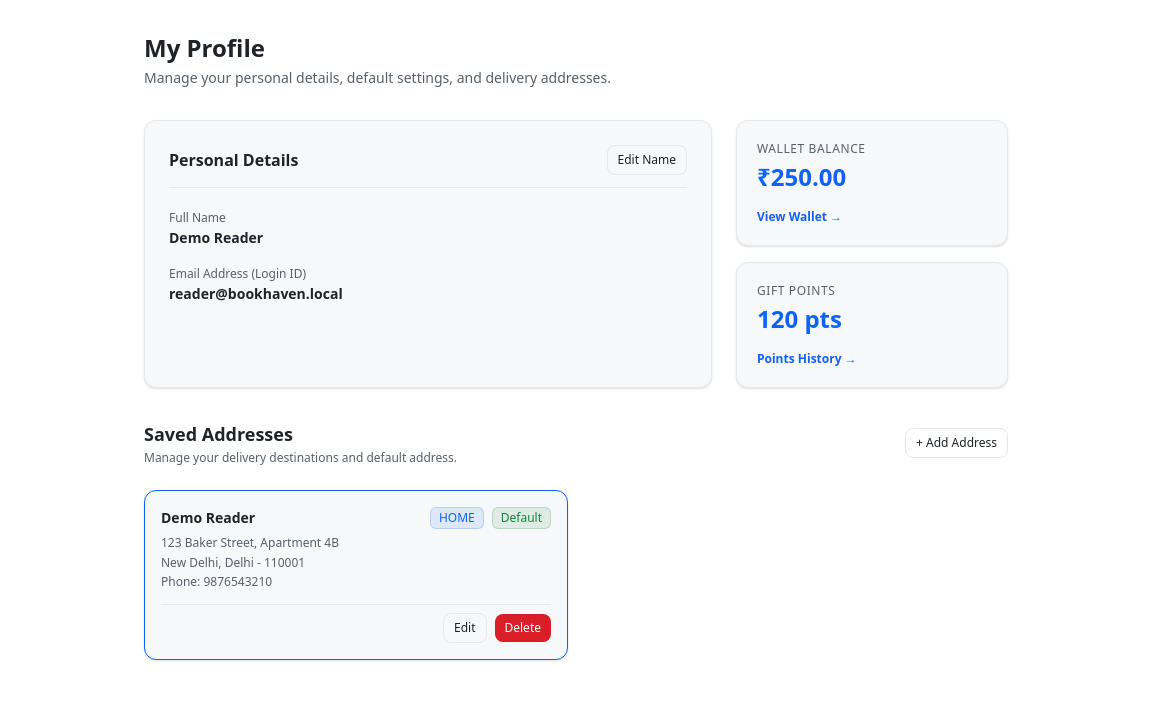
Test: ProfilePageTest › nameTooShortBlocked: a one-character name is refused and nothing is sent
Click the button "Edit Name" at [647, 160], box [606,145,687,175]
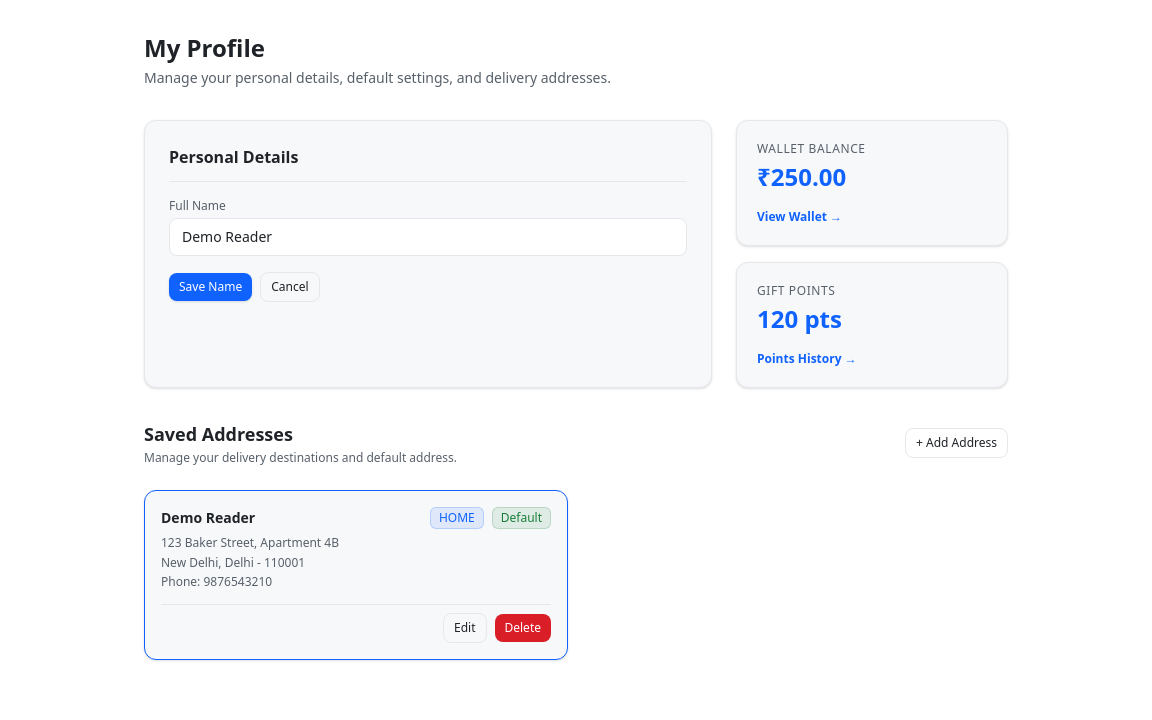
Replace the text in the field labelled "Full Name" with "A" at [428, 237], box [169,218,687,256]
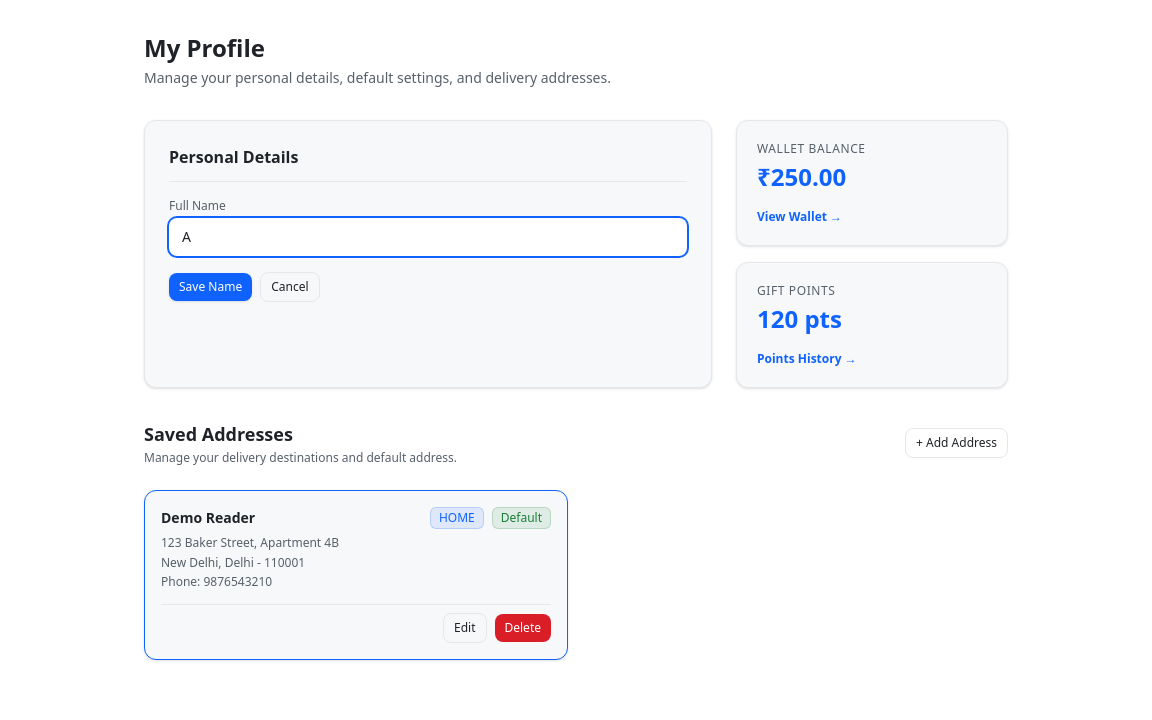
Click the button "Save Name" at [211, 287], box [169,273,252,301]
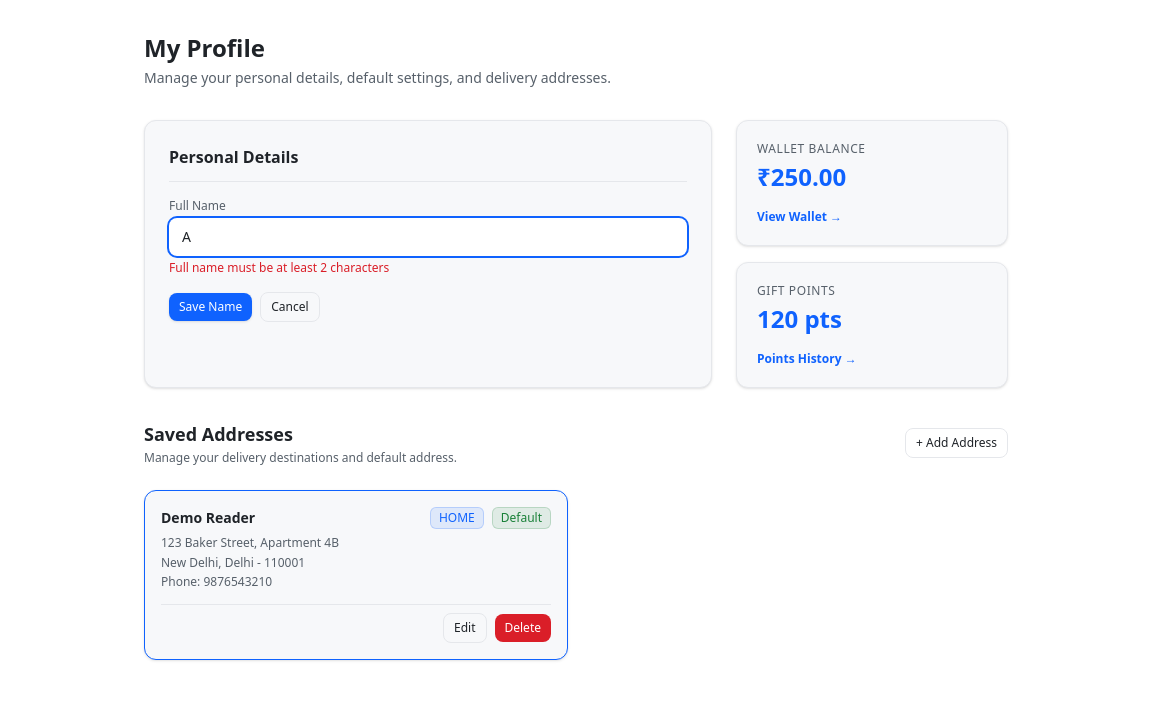
Now the text "Full name must be at least 2 characters" is shown, box [169,259,389,276]
